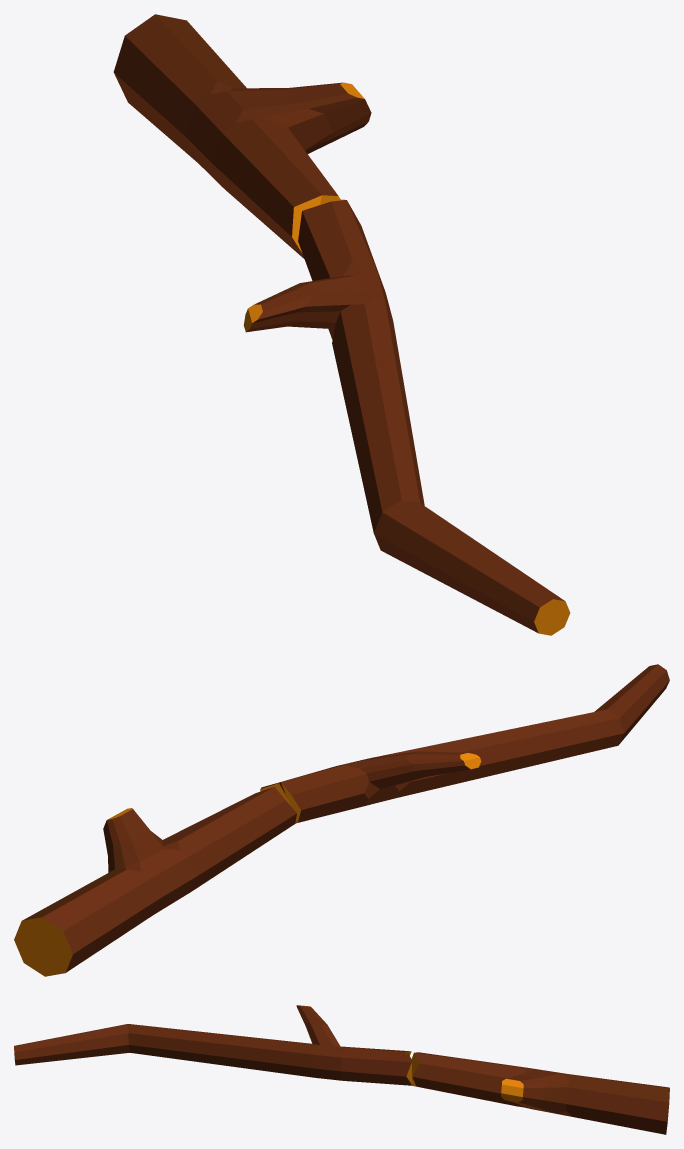
The model's file is Stick_48.fbx.
3 renders of one model, top to bottom at view 1: azimuth 30°, elevation 25°; view 2: azimuth 150°, elevation 25°; view 3: azimuth 270°, elevation 25°, orthographic. The views are drawn at different scales.
Visible parts, largest first — view 1: Circle.428, Circle.424; view 2: Circle.424, Circle.428; view 3: Circle.428, Circle.424.
Boxes of the visible parts, x1,y1,x2,y2 form: Circle.428: (243, 200, 570, 635); Circle.424: (113, 14, 371, 258); Circle.424: (14, 783, 296, 976); Circle.428: (260, 664, 669, 823); Circle.428: (14, 1005, 412, 1085); Circle.424: (407, 1052, 669, 1134).
Bounding box in the file's own units: 14.72 × 4.81 × 44.13.
